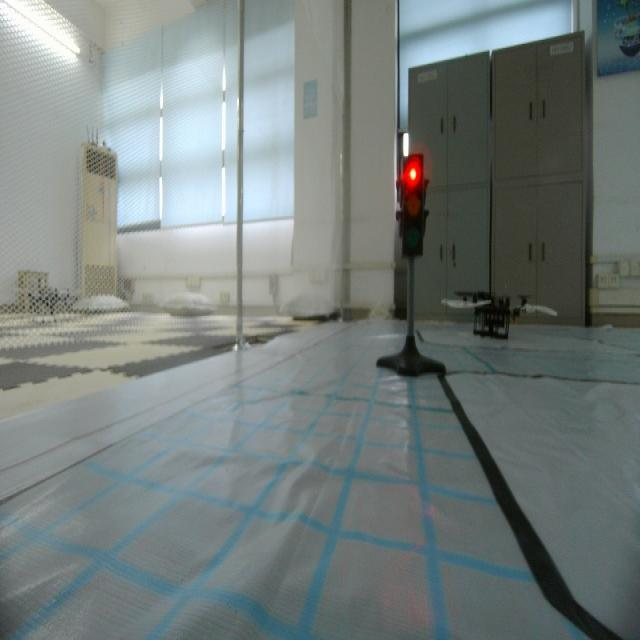red: (393, 148, 431, 267)
